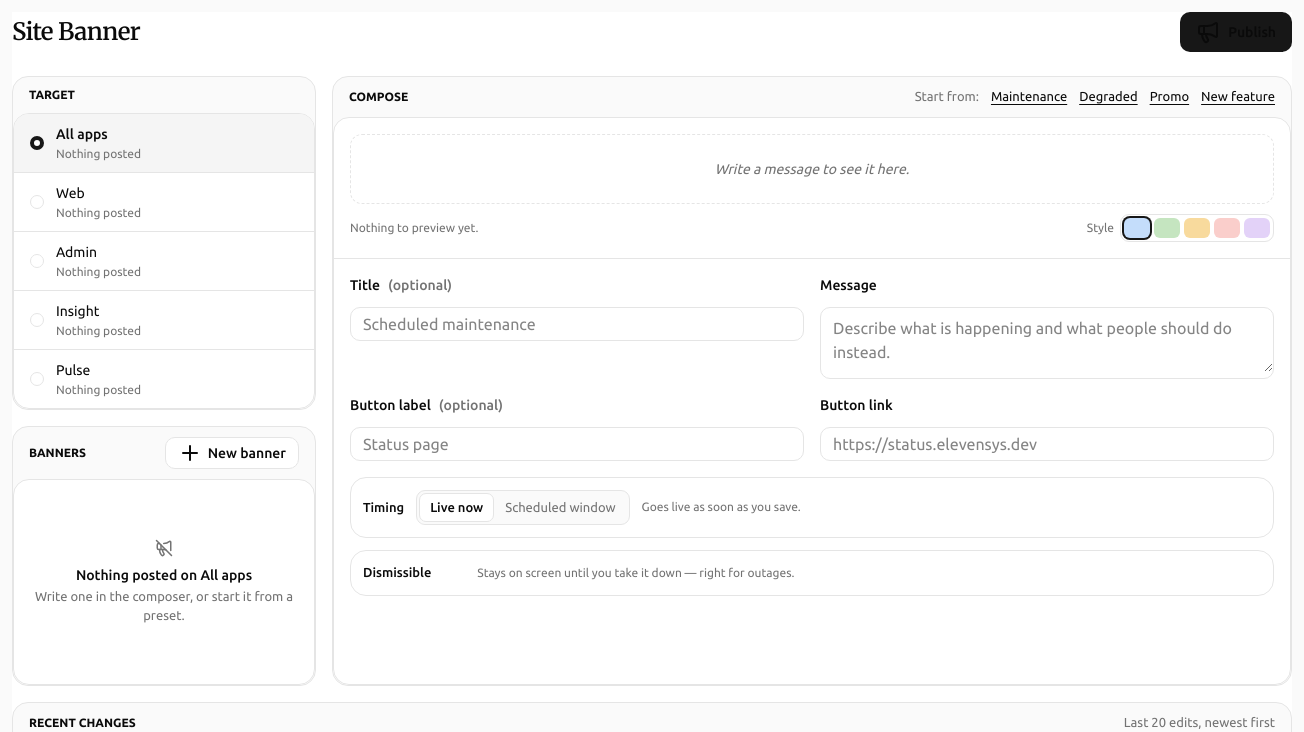
Test case: SiteBannerForm › goes live on save until a window is asked for
Check: the text "Goes live as soon as you save." is shown, box x1=642 y1=499 x2=801 y2=515
Click the 6th radio button labelled "Scheduled window". click: (560, 506)
box: x1=505 y1=500 x2=616 y2=514
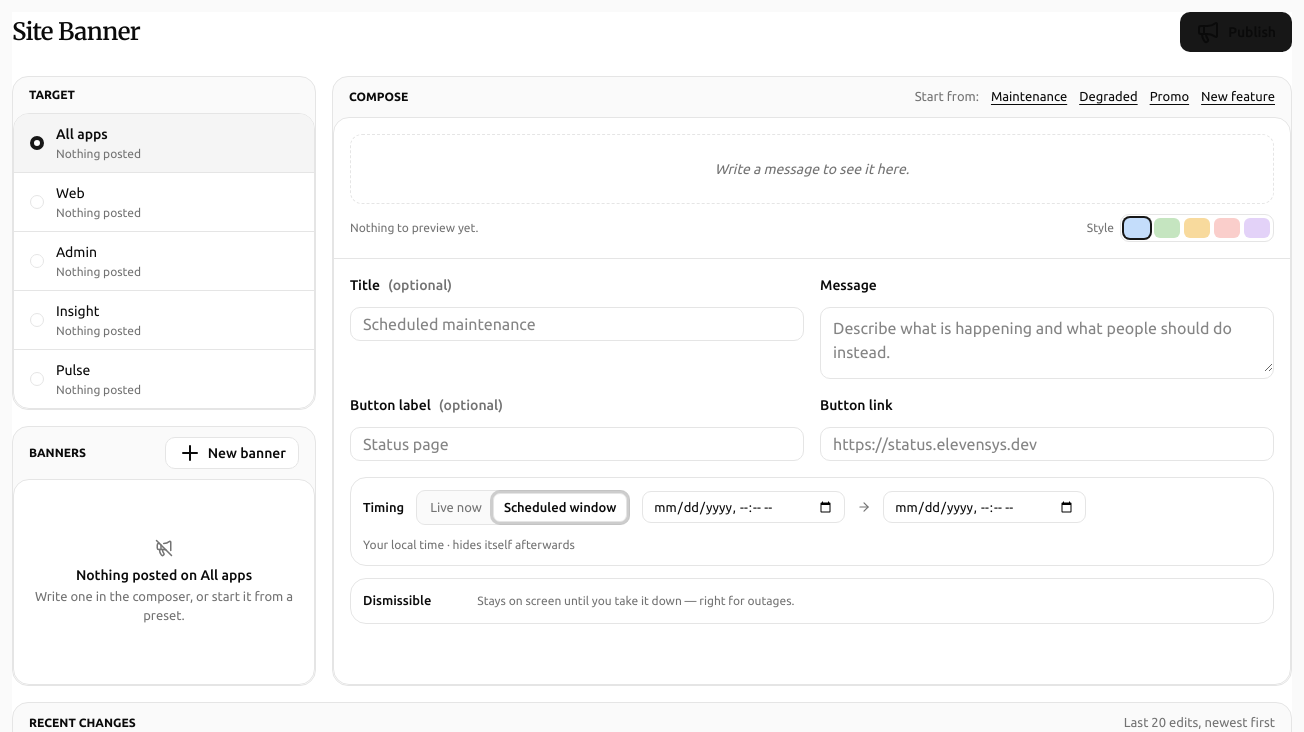
Check: the field named "Starts" is shown, box x1=642 y1=491 x2=845 y2=523
Check: the field named "Ends" is shown, box x1=883 y1=491 x2=1086 y2=523
